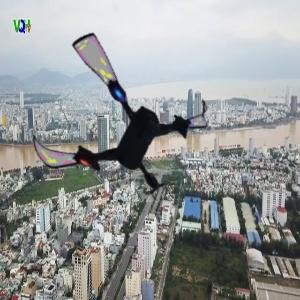drone: (23, 34, 205, 216)
